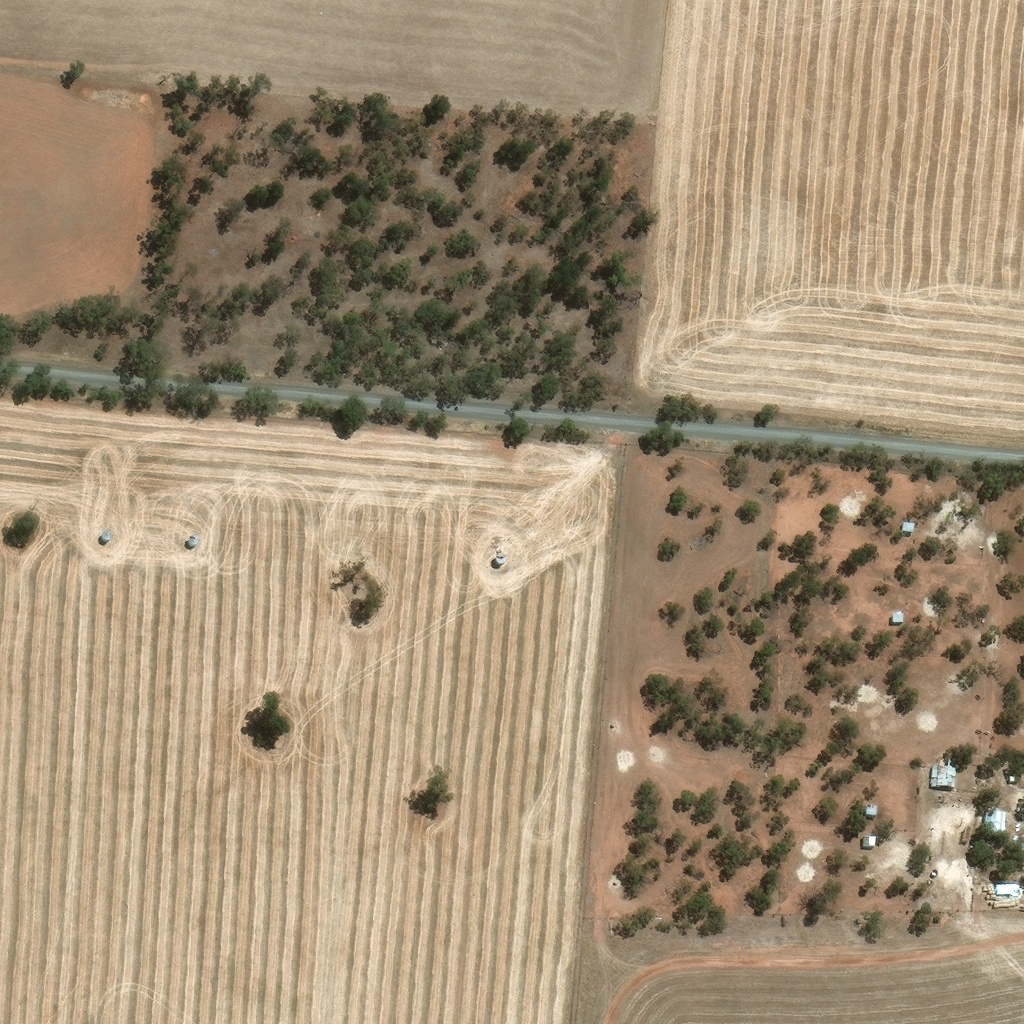0 no-damage: (936, 766, 960, 795), (989, 817, 1014, 840), (905, 527, 919, 541), (895, 619, 908, 631), (867, 842, 880, 854), (871, 811, 881, 823)
